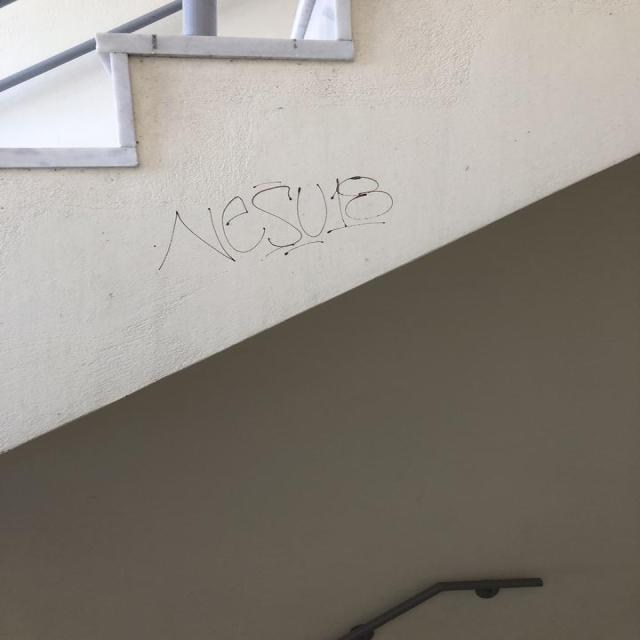nonspitting: (156, 177, 395, 270)
